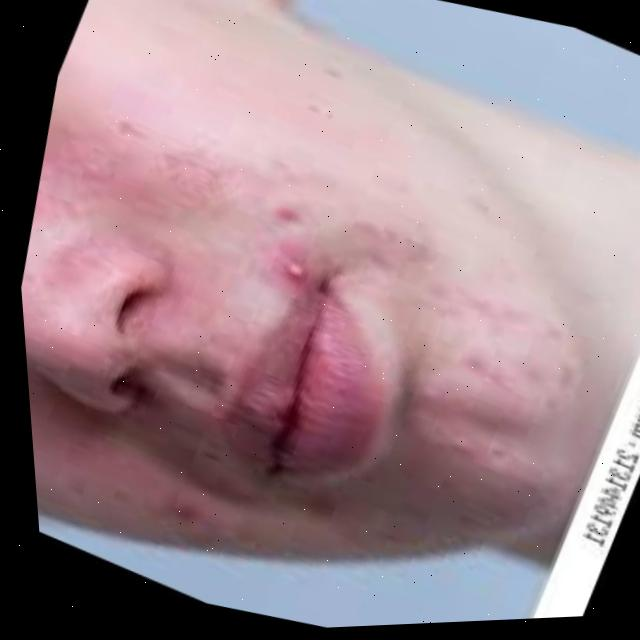Eczema: (37, 74, 612, 583)
